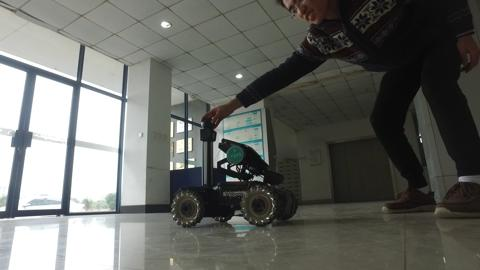chariot: (165, 114, 305, 227)
